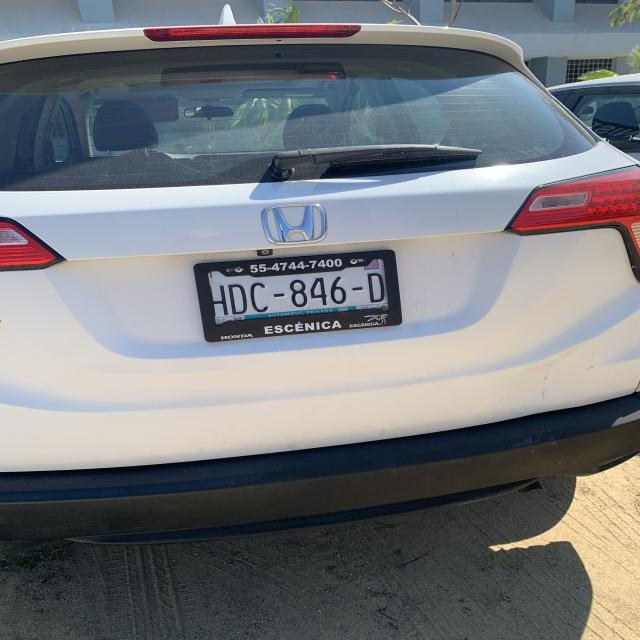placa: (200, 269, 398, 316)
